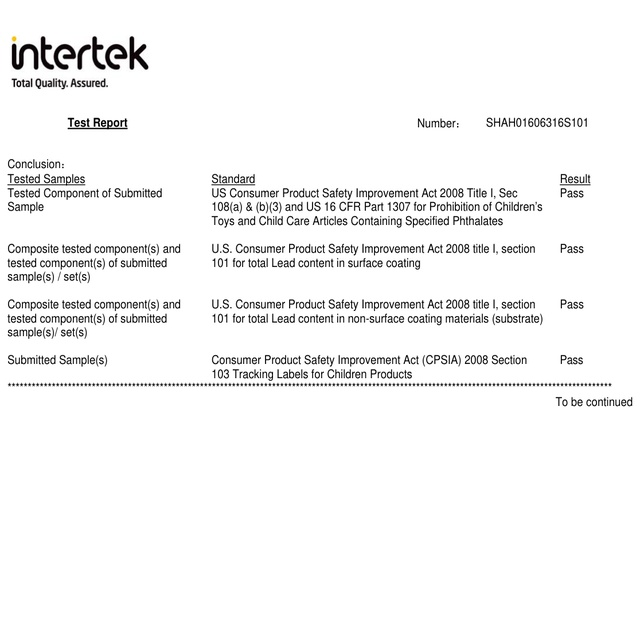intertek: (8, 29, 153, 75)
